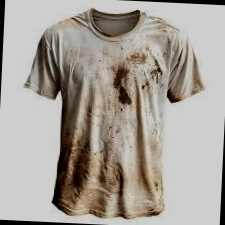earth: (57, 129, 92, 212), (112, 62, 133, 104), (97, 161, 122, 191), (143, 65, 160, 91), (129, 53, 147, 65)
